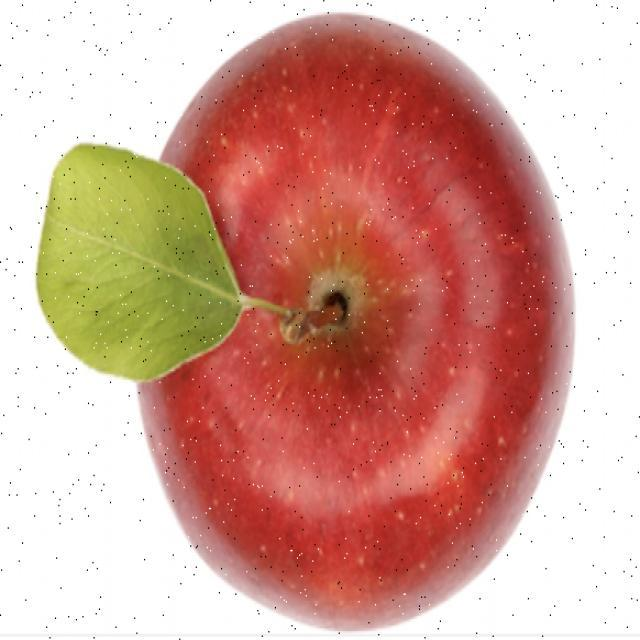Fresh Apple: (177, 32, 555, 625)
